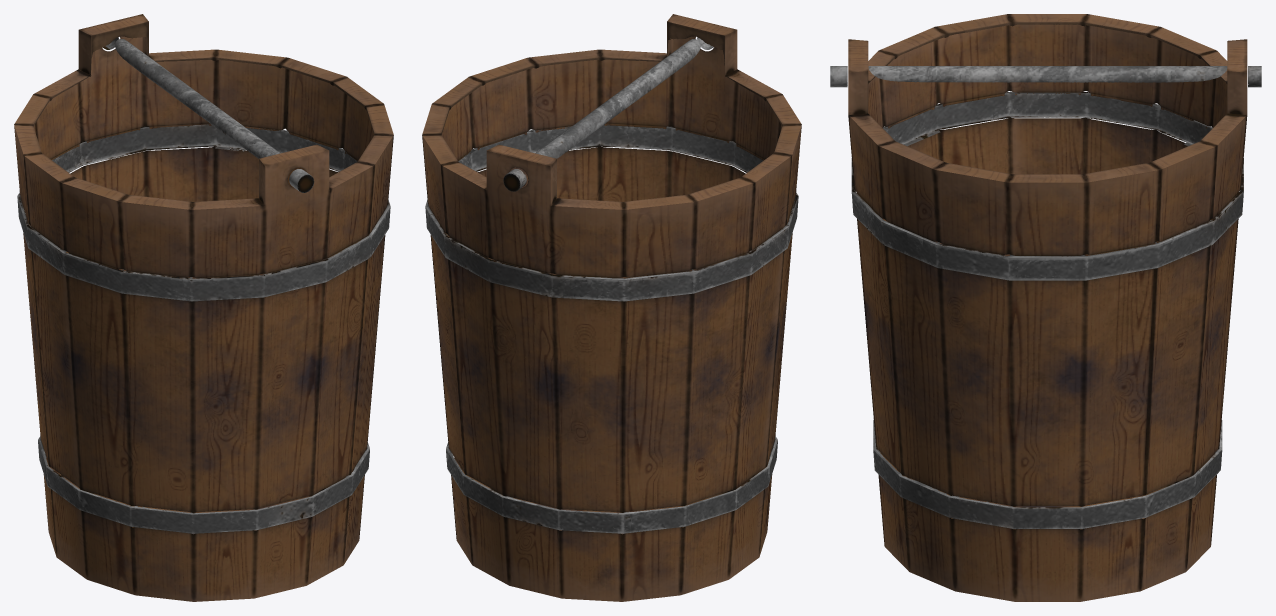
The picture shows the model from 3 angles, left to right: view 1: azimuth 30°, elevation 25°; view 2: azimuth 150°, elevation 25°; view 3: azimuth 270°, elevation 25°; orthographic projection. The views are drawn at different scales.
Visible parts, largest first — view 1: body_low, Line_low, Handle_low; view 2: body_low, Line_low, Handle_low; view 3: body_low, Line_low, Handle_low.
Boxes of the visible parts, bbox=[...] form: body_low: bbox=[14, 14, 393, 601]; Line_low: bbox=[17, 124, 390, 533]; Handle_low: bbox=[103, 37, 314, 192]; body_low: bbox=[422, 14, 801, 601]; Line_low: bbox=[425, 125, 798, 533]; Handle_low: bbox=[503, 37, 713, 191]; body_low: bbox=[848, 14, 1247, 601]; Line_low: bbox=[851, 92, 1243, 528]; Handle_low: bbox=[830, 66, 1261, 87].
Bounding box in the file's own units: 0.1429 × 0.1545 × 0.1884.
1 material, 1 textured.
